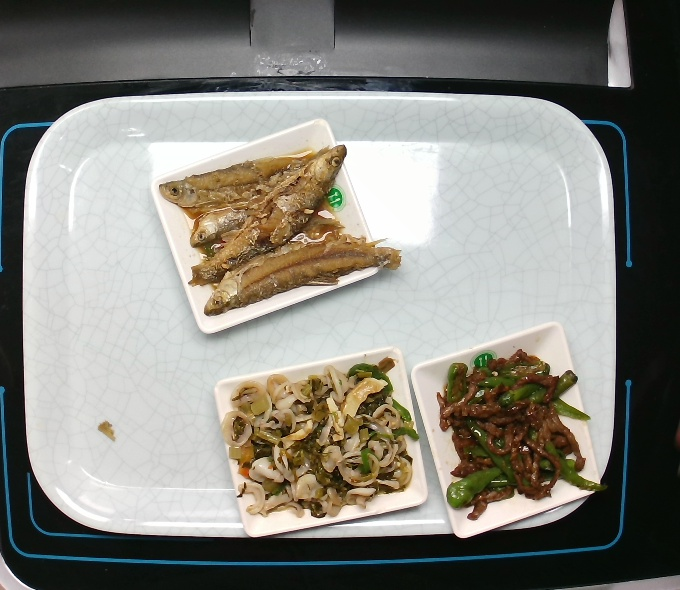wcq-QingJiaoNiuRou: (436, 339, 595, 530)
wcq-XiaoXiYu: (153, 143, 403, 323)
wcq-XueCaiYouYu: (213, 350, 419, 523)
